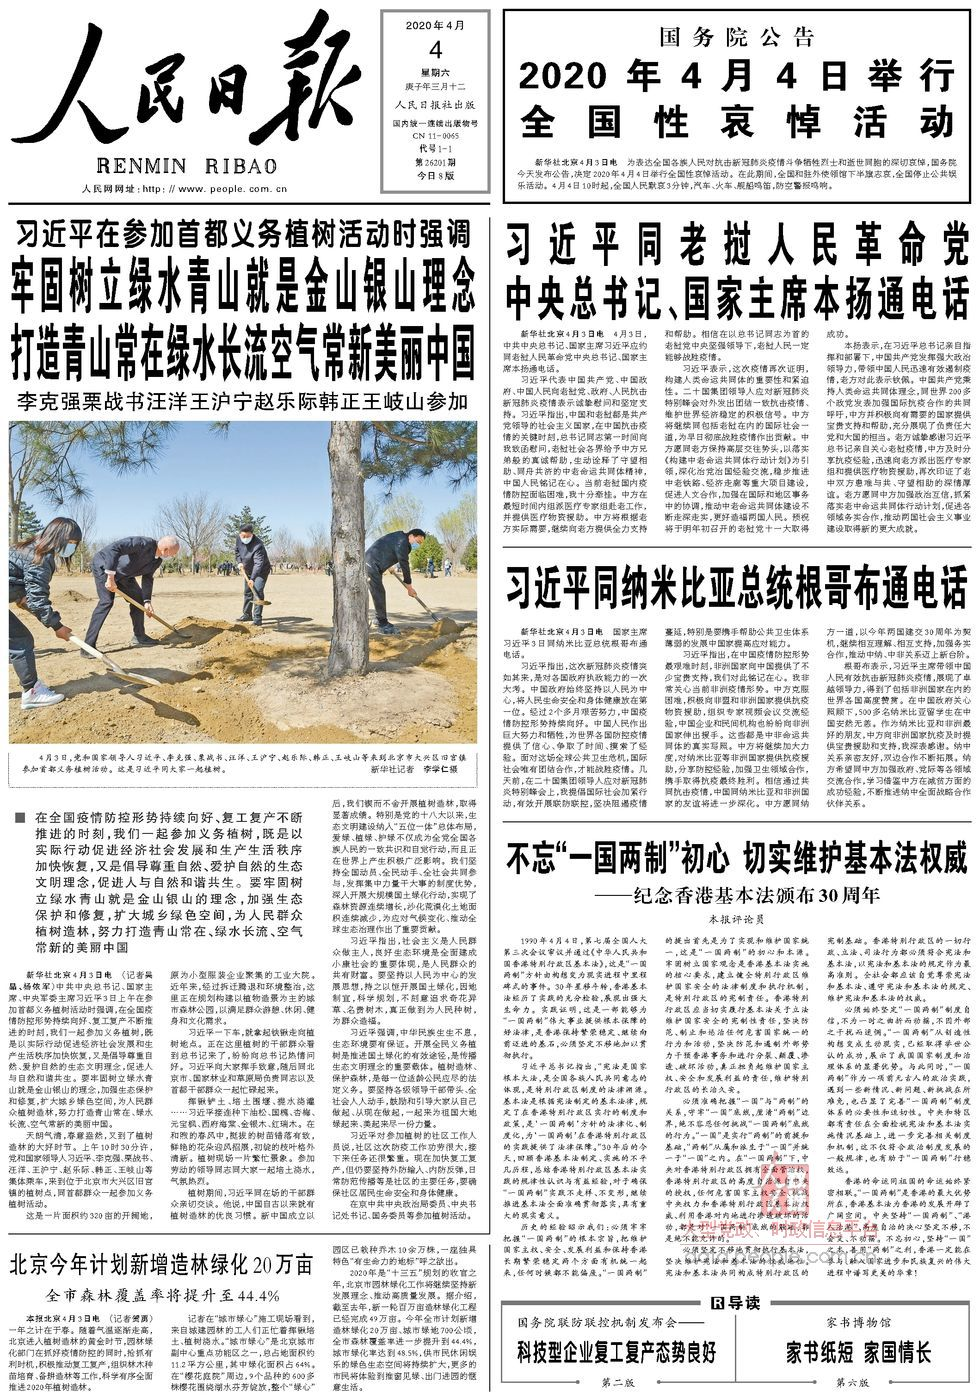pic: (3, 416, 483, 750)
